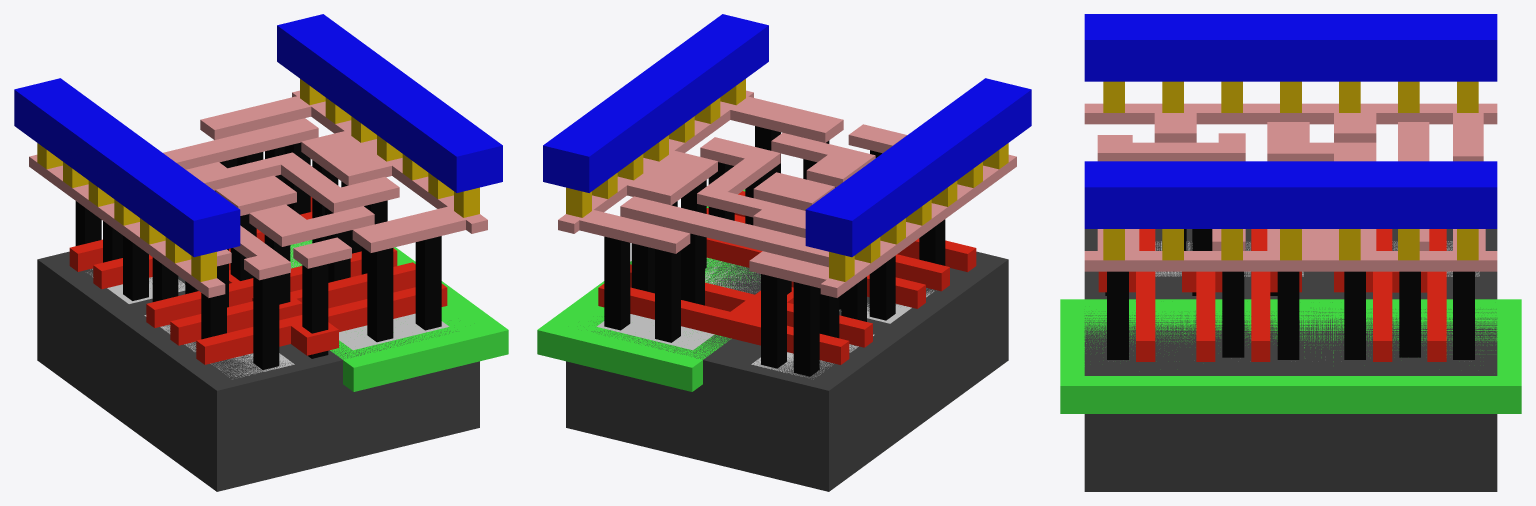
The model's file is sky130_fd_sc_hd__o21a_2.obj.
3 views of the same model, side by side, from view 1: azimuth 30°, elevation 25°; view 2: azimuth 150°, elevation 25°; view 3: azimuth 270°, elevation 25° (orthographic). The views are drawn at different scales.
Parts seen in each view (by area): view 1: subs, metal1, li, licon, poly, nwell, mcon, tap, diff; view 2: subs, metal1, li, licon, poly, nwell, mcon, tap, diff; view 3: metal1, subs, nwell, li, licon, poly, mcon.
Boxes of the visible parts, box(x1,y1,x2,y2) form: subs: box(37, 241, 479, 491); metal1: box(14, 14, 502, 257); li: box(29, 90, 487, 297); licon: box(75, 142, 441, 369); poly: box(69, 197, 447, 364); nwell: box(290, 240, 508, 391); mcon: box(37, 79, 479, 281); tap: box(290, 241, 449, 350); diff: box(87, 269, 294, 379); subs: box(566, 251, 1008, 491); metal1: box(543, 14, 1031, 257); li: box(558, 90, 1016, 297); licon: box(604, 126, 945, 376); poly: box(598, 191, 976, 364); nwell: box(537, 189, 760, 391); mcon: box(566, 79, 1008, 281); tap: box(596, 257, 760, 350); diff: box(751, 289, 934, 379); metal1: box(1084, 14, 1497, 228); subs: box(1084, 229, 1497, 491); nwell: box(1060, 299, 1521, 413); li: box(1084, 103, 1497, 271); licon: box(1105, 229, 1474, 359); poly: box(1098, 229, 1446, 361); mcon: box(1103, 81, 1478, 260).
Bounding box in the file's own units: 3.2 × 2.74 × 3.6.
